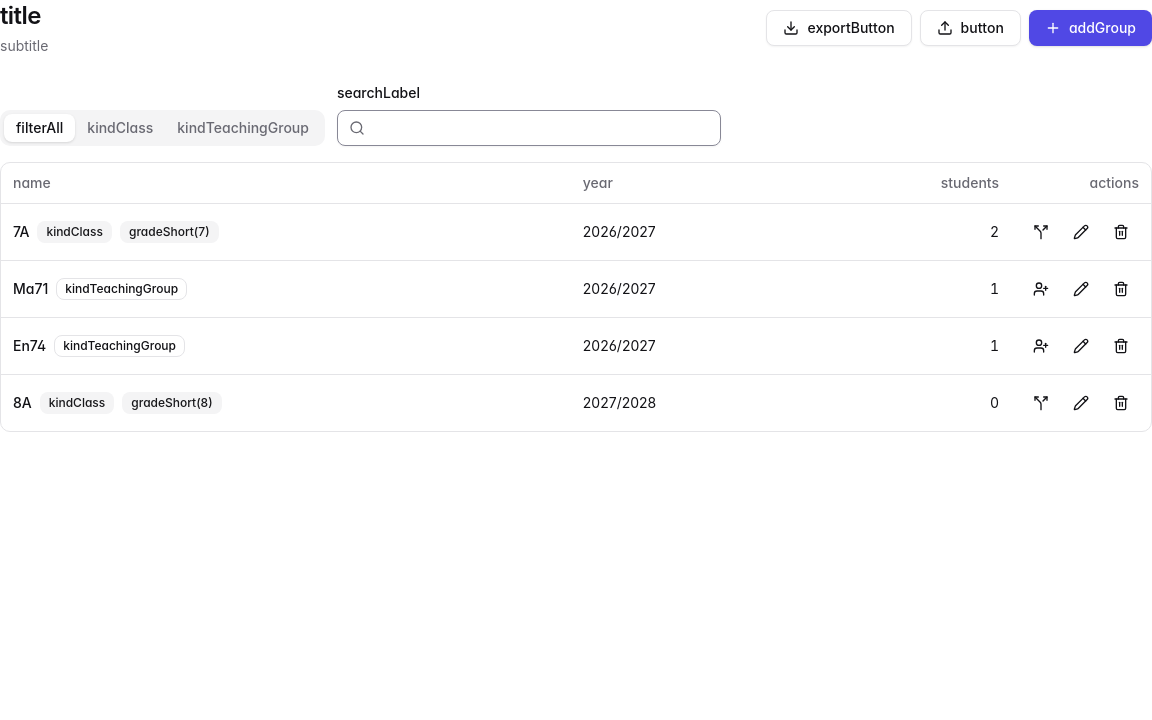
Groups page › adds a new group to the active läsår unless another is chosen
Click the button "addGroup" at (1090, 28), box [1029, 10, 1151, 46]
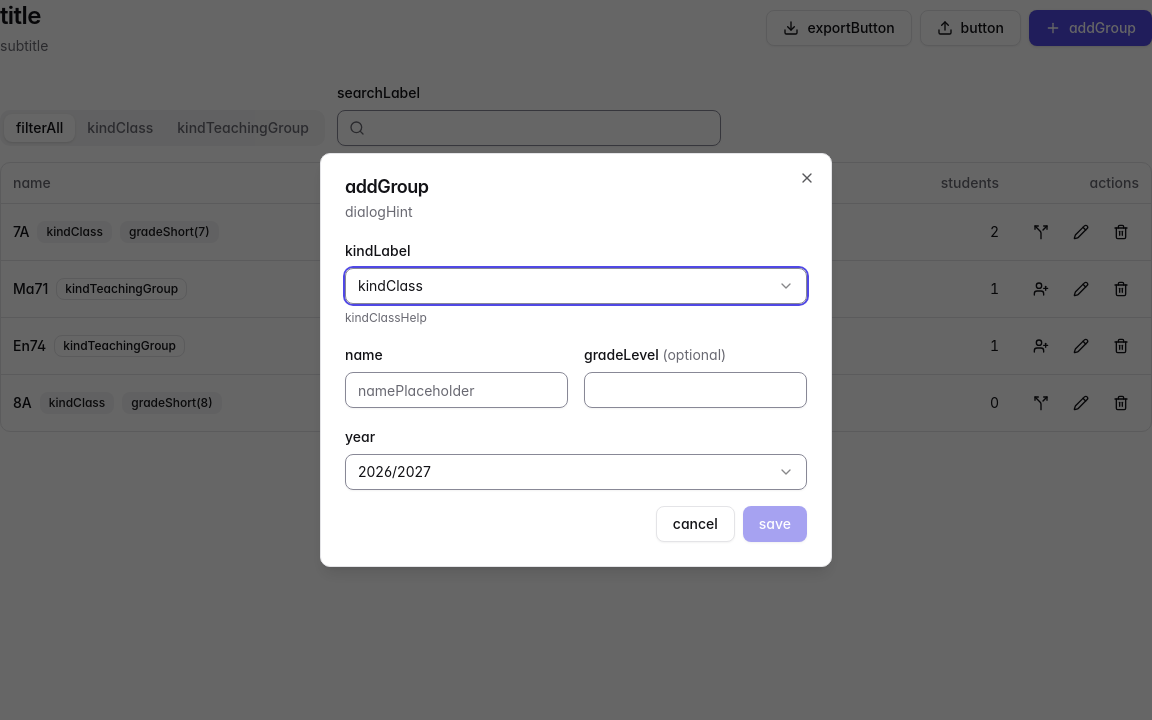
Now the dropdown named "year" reads "2026/2027", box [345, 454, 807, 490]
